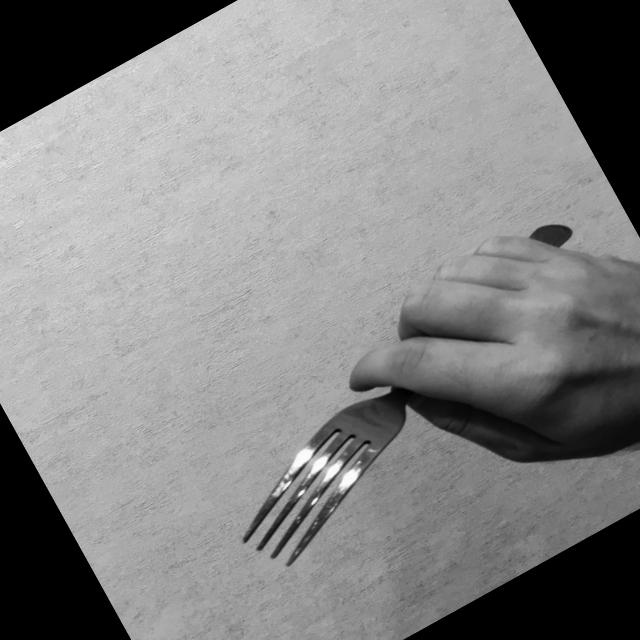fork: (178, 210, 640, 580)
